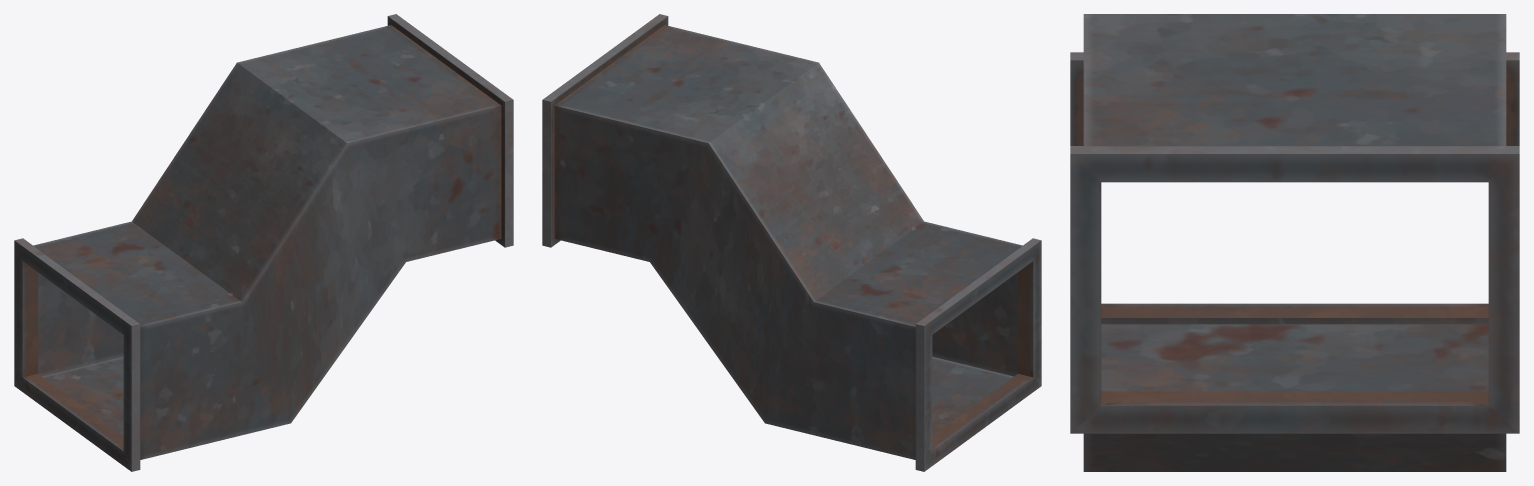
Rendered from Vent_Diagonal_A.fbx.
3 views of the same model, side by side, from view 1: azimuth 30°, elevation 25°; view 2: azimuth 150°, elevation 25°; view 3: azimuth 270°, elevation 25° (orthographic). The views are drawn at different scales.
Visible parts, largest first — view 1: Cube.003; view 2: Cube.003; view 3: Cube.003.
Boxes of the visible parts, box(x1,y1,x2,y2) form: Cube.003: box(14, 14, 513, 471); Cube.003: box(542, 14, 1041, 471); Cube.003: box(1070, 14, 1519, 471).
Bounding box in the file's own units: 300 × 209 × 159.
